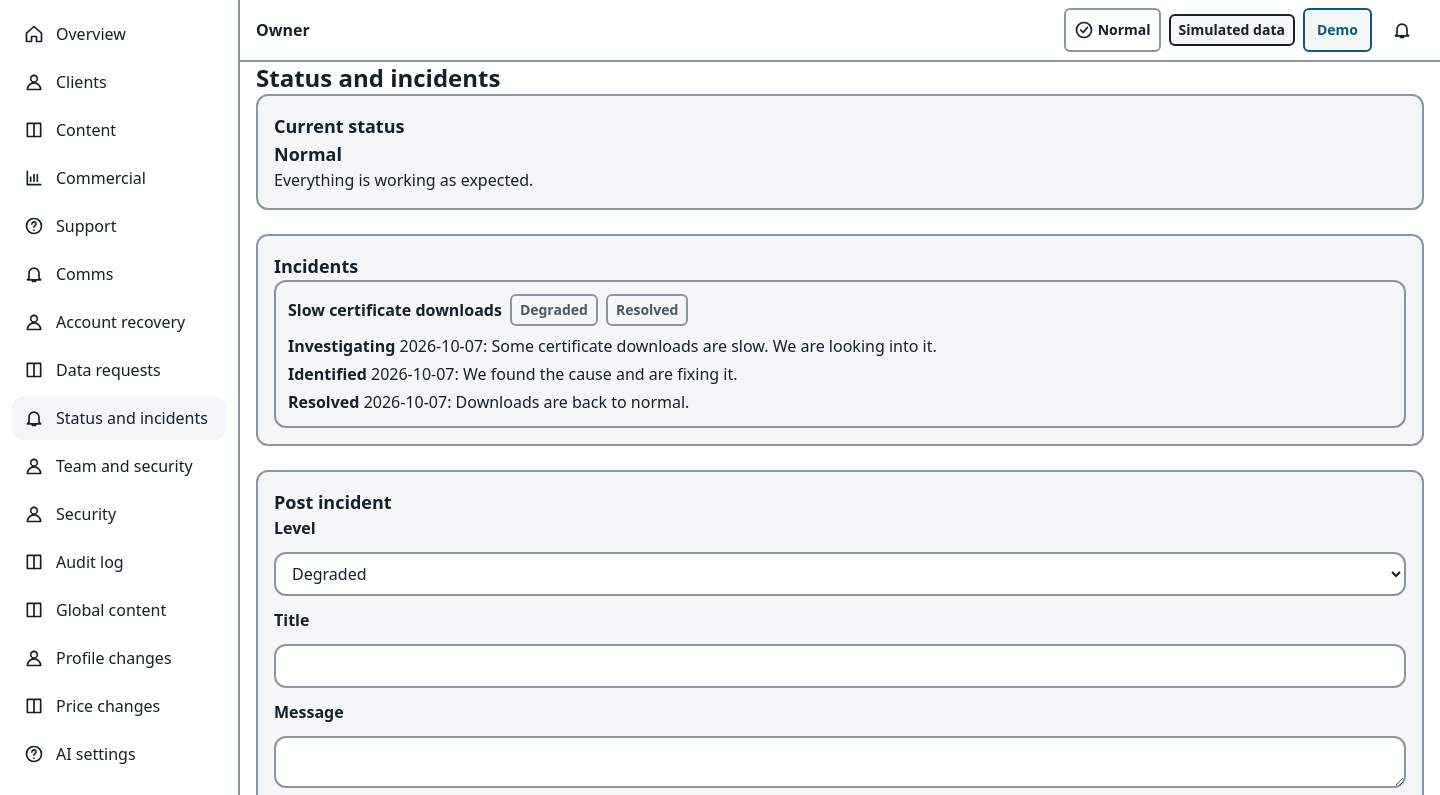
Test: P17 Status and incidents › posts an incident: status becomes the word Incident with the title and the incident shows Investigating
Expected: the heading "Status and incidents" is shown, [256, 62, 500, 94]
Select "Incident" in the dropdown labelled "Level" at [840, 574], box [274, 552, 1406, 596]
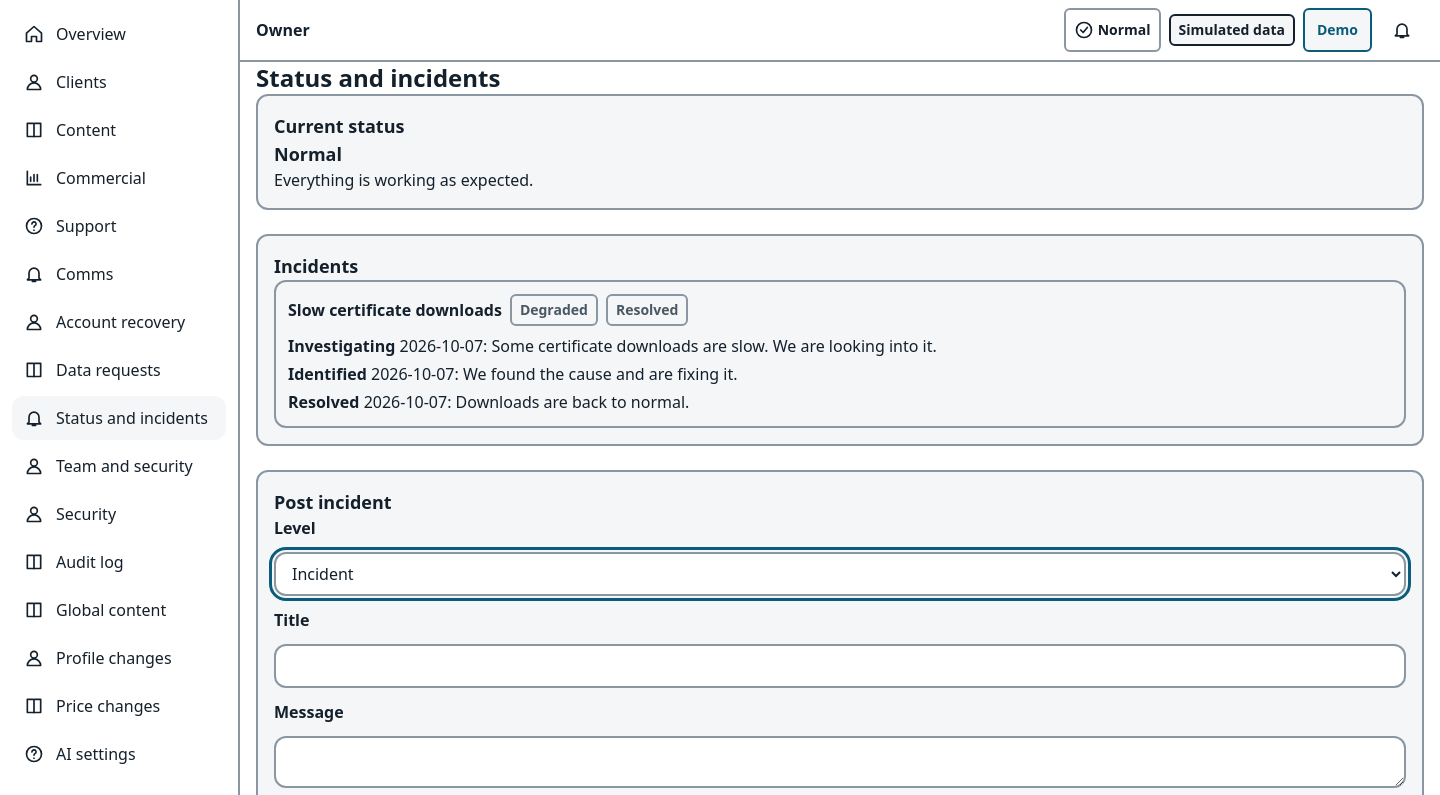
Type "Sign-in problems" into the field labelled "Title" at [840, 666], box [274, 644, 1406, 688]
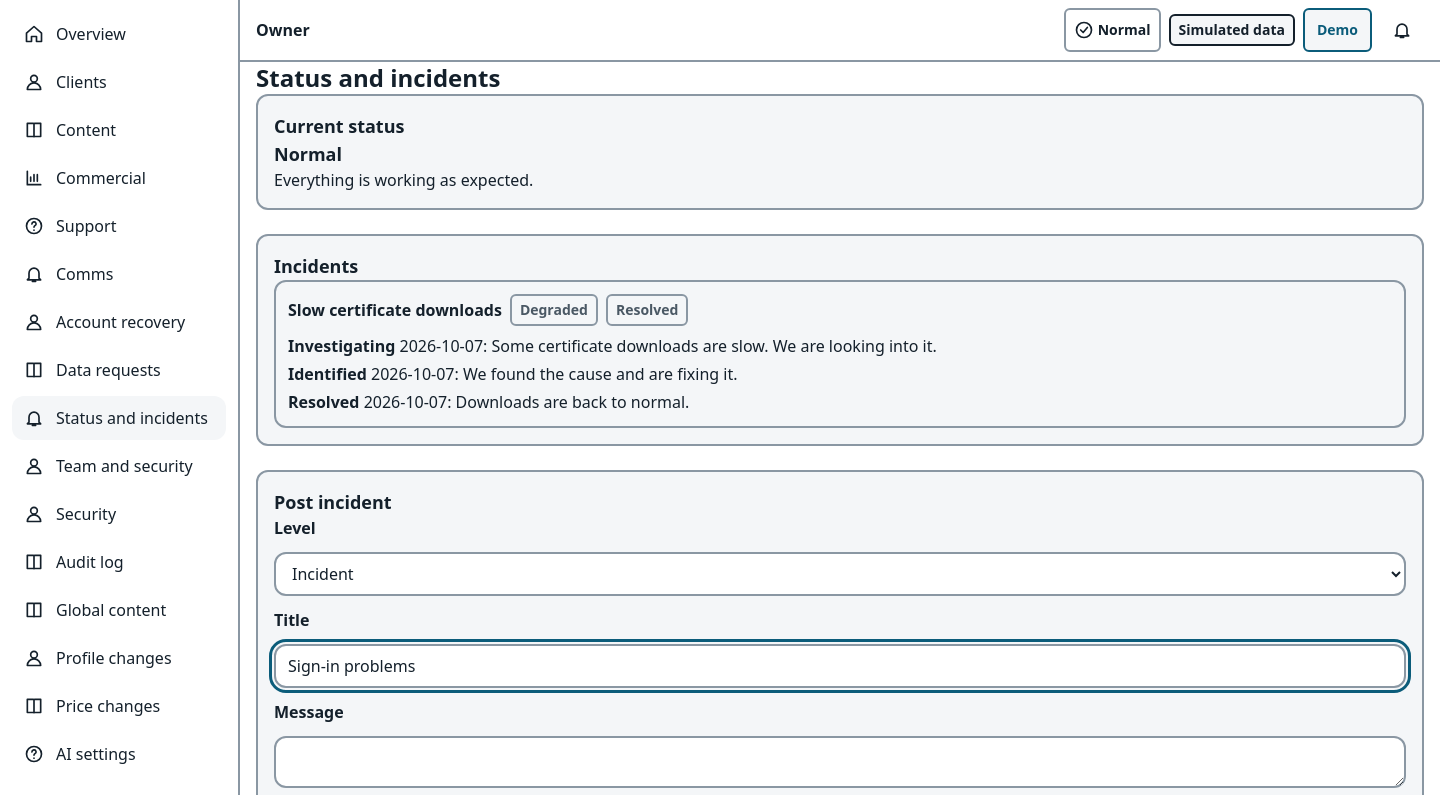
Type "Some people cannot sign in. We are looking into it." into the text box labelled "Message" at [840, 762], box [274, 736, 1406, 788]
(page scrolled)
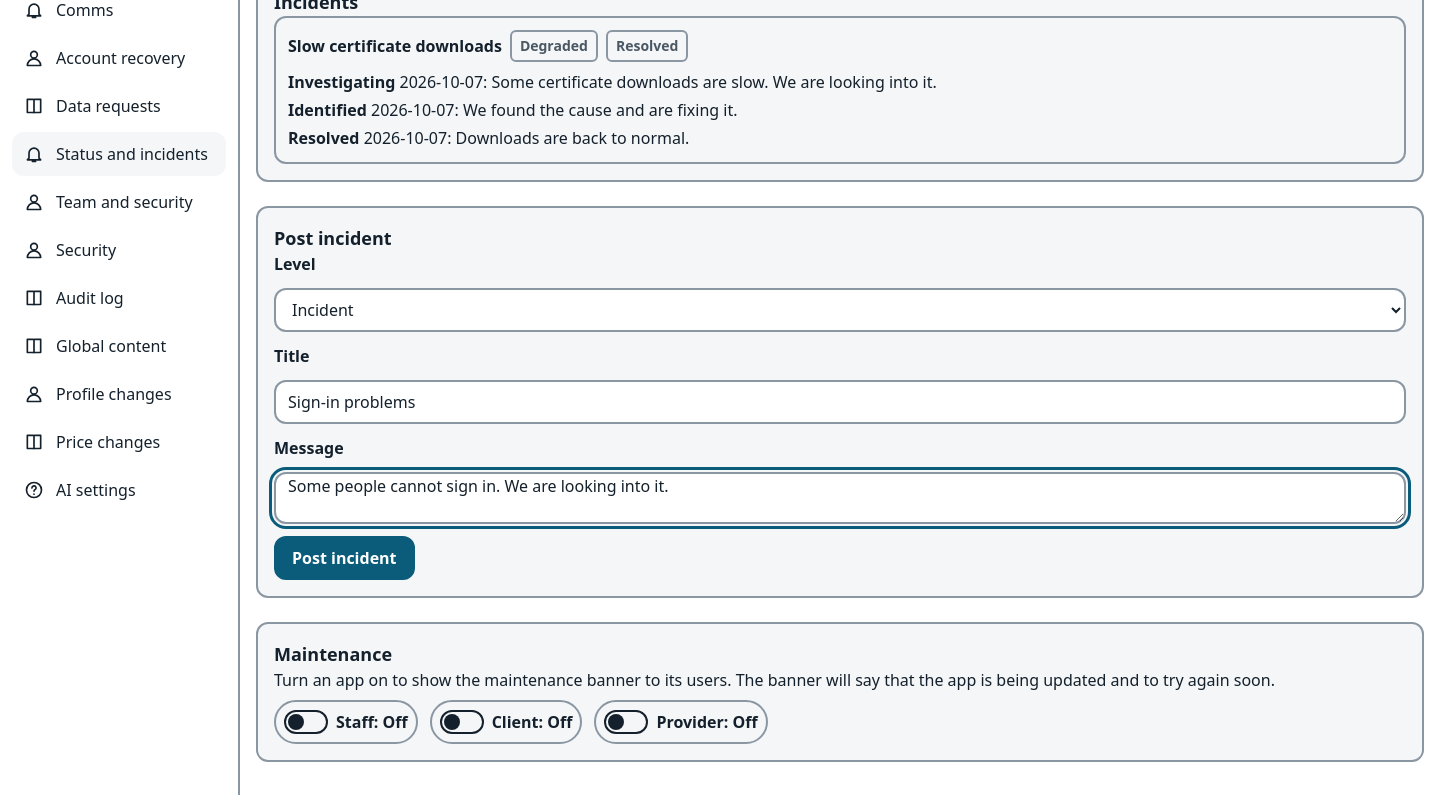
Click the button "Post incident" at [344, 558], box [274, 536, 414, 580]
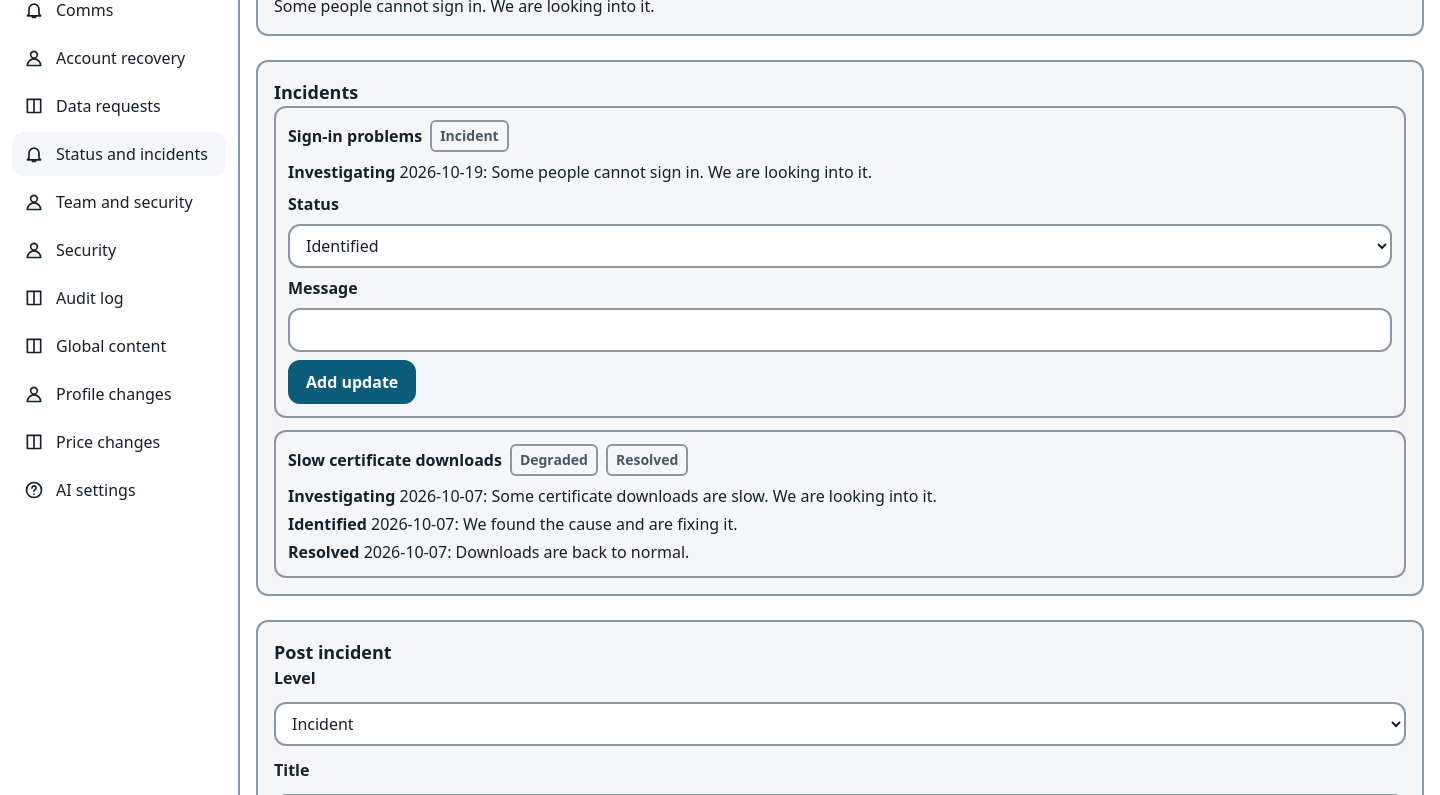
Result: the number of list items with test id "incident-row" is 2 at [274, 106, 1406, 418]; [274, 430, 1406, 578]
Result: the element "Current status" no longer shows "Normal"
Result: the list item with test id "incident-row" shows "Investigating" at [288, 161, 395, 183]
